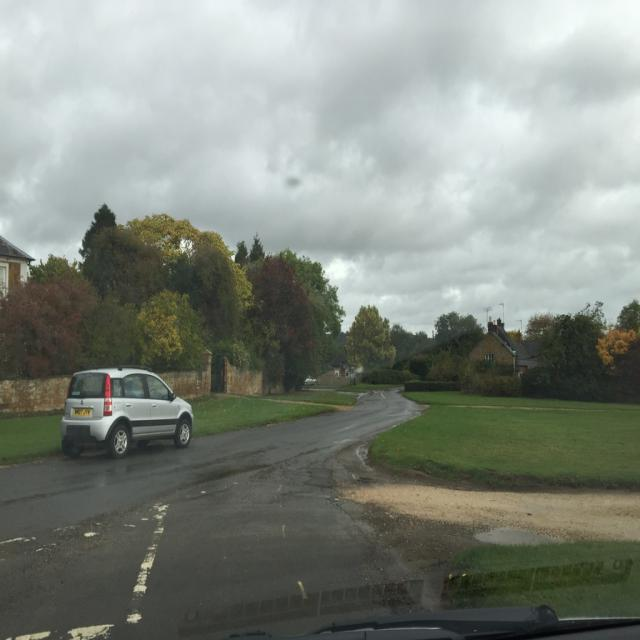car: (60, 365, 192, 461)
